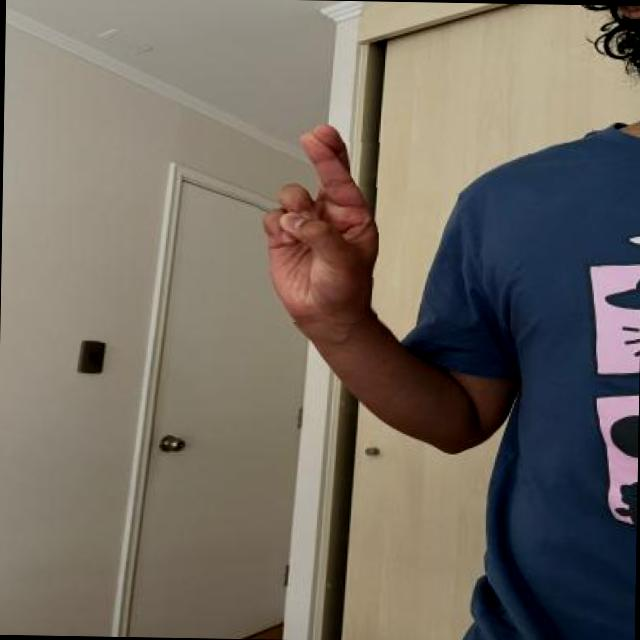R: (254, 117, 380, 323)
